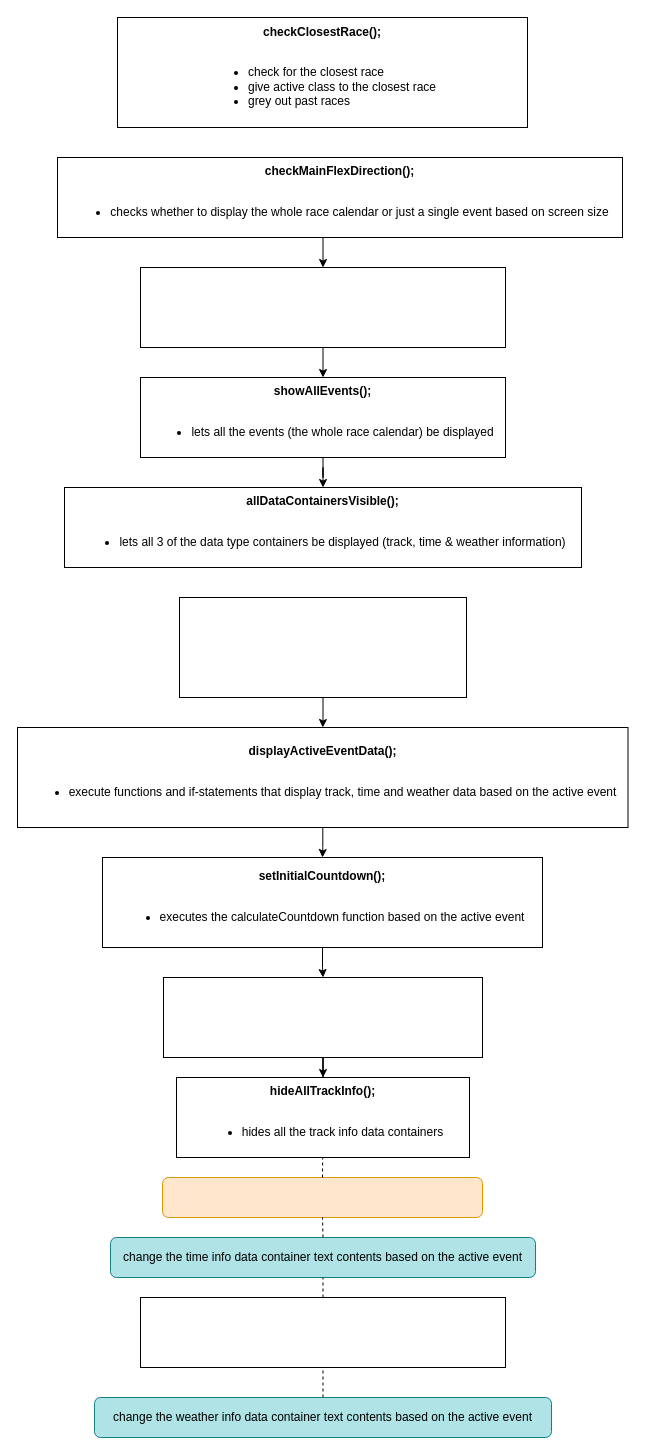
The diagram is 646 pixels wide and 1455 high, and some of its shapes have lost their labels. Here are the shapes that lost their labels. From the top down, the box of each, then its label:
(140, 266, 506, 348): hideAllHamburgerIcons(); hides all hamburger menu icons in the calendar elements
(178, 596, 466, 698): getWeatherData(); fetch weather data from API store weather data in localStorage
(162, 976, 482, 1058): calculateCountdown(); display the countdown data of the active event
(162, 1176, 482, 1218): display the track info data container of the active event
(140, 1296, 506, 1368): formatDate(); changes the weather date format received by the API
